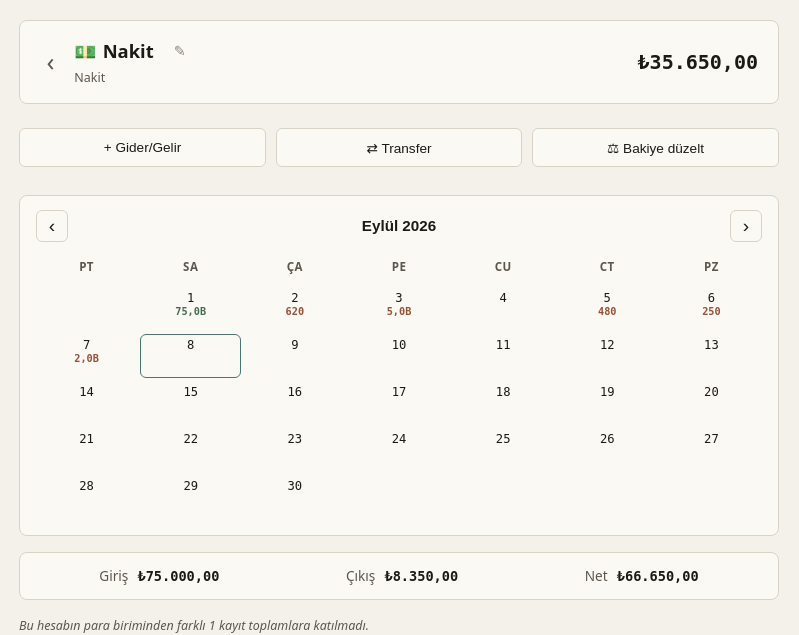
Test case: Hesap detayı › (a) form açıkken takvimde ikinci bir güne basınca #hf-tarih o güne güncellenmeli
Step 1. Click the element showing "2 620" → (295, 309), box [244,287,345,331]
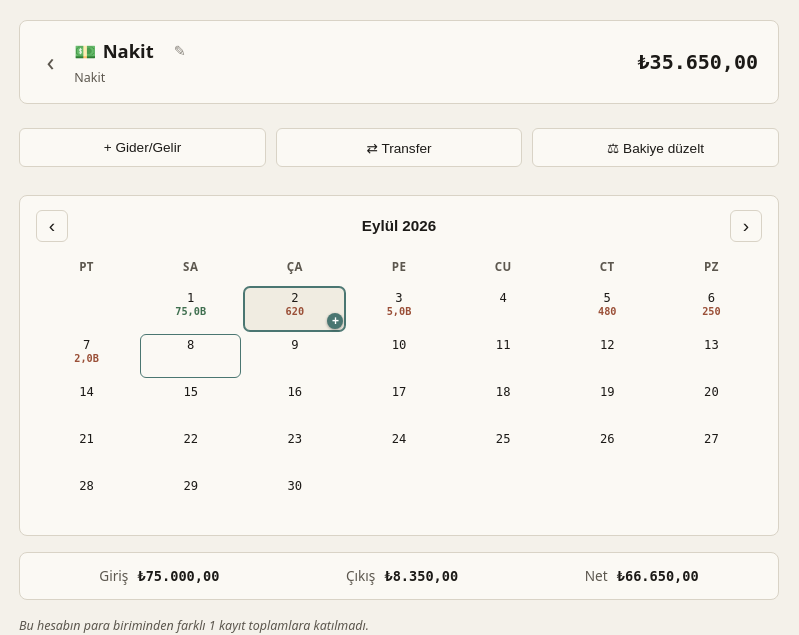
Step 2. Click the button "+" → (335, 321), box [327,313,343,329]
(page scrolled)
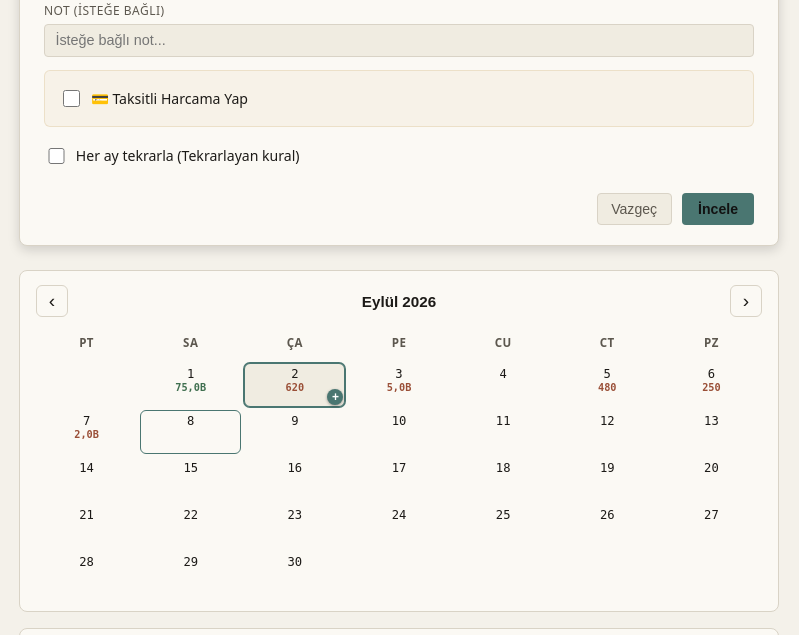
Step 3. Click the element showing "5 480" → (607, 385), box [557,363,658,407]
(page scrolled)
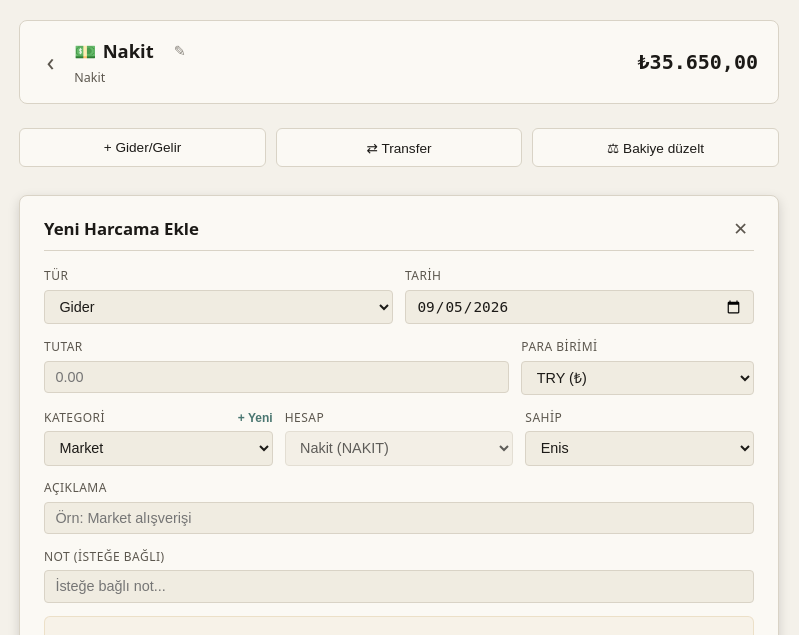
Expected: the date field with id "hf-tarih" holds "2026-09-05", [405,290,754,324]
